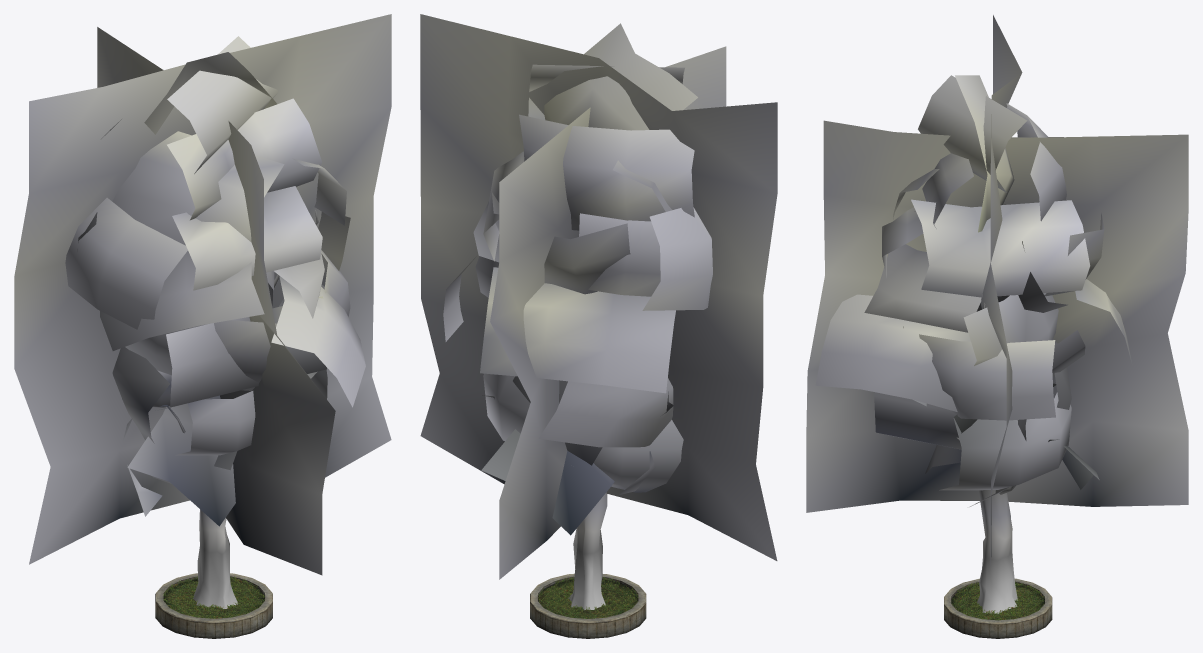
The model's file is Old Tree.fbx.
3 views of the same model, side by side, from view 1: azimuth 30°, elevation 25°; view 2: azimuth 150°, elevation 25°; view 3: azimuth 270°, elevation 25° (orthographic). The views are drawn at different scales.
Parts seen in each view (by area): view 1: Tree, Tree_Stand, Grass; view 2: Tree, Tree_Stand, Grass; view 3: Tree, Tree_Stand, Grass.
Part boxes in pixels (x1,y1,x2,y2): Tree: (14, 14, 391, 608); Tree_Stand: (155, 573, 272, 638); Grass: (163, 576, 264, 618); Tree: (420, 14, 777, 610); Tree_Stand: (530, 573, 646, 638); Grass: (538, 576, 638, 618); Tree: (806, 15, 1188, 613); Tree_Stand: (944, 578, 1052, 638); Grass: (952, 581, 1044, 619).
Size of the model in its own units: 74.98 by 74.45 by 115.
